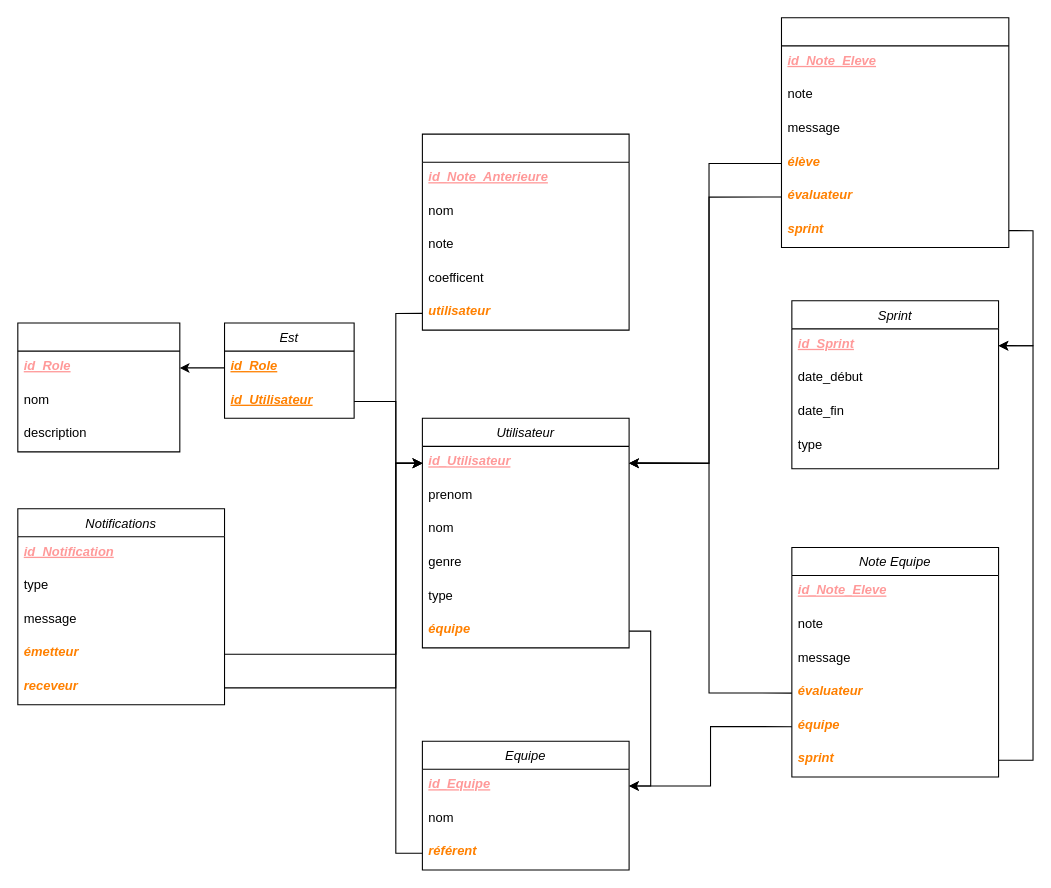
Image size: 1051x888. Some labels were removed from this diagram. Here are the shapes that lost their labels. From the top down, the box of each, then its label:
(780, 17, 1009, 247): Note Elève
(421, 133, 629, 330): Note Antérieure
(17, 322, 180, 452): Rôle
